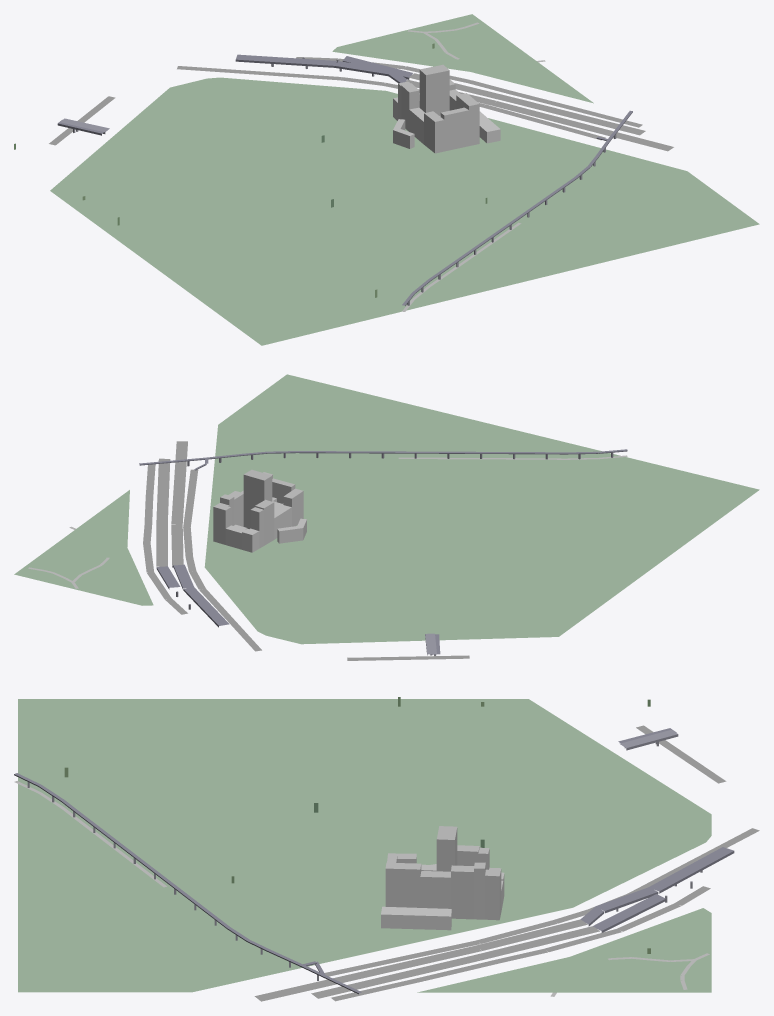
The picture shows the model from 3 angles, top to bottom: view 1: azimuth 30°, elevation 25°; view 2: azimuth 150°, elevation 25°; view 3: azimuth 270°, elevation 25°; orthographic projection. The views are drawn at different scales.
Size of the model in its own units: 515 by 59.86 by 538.
